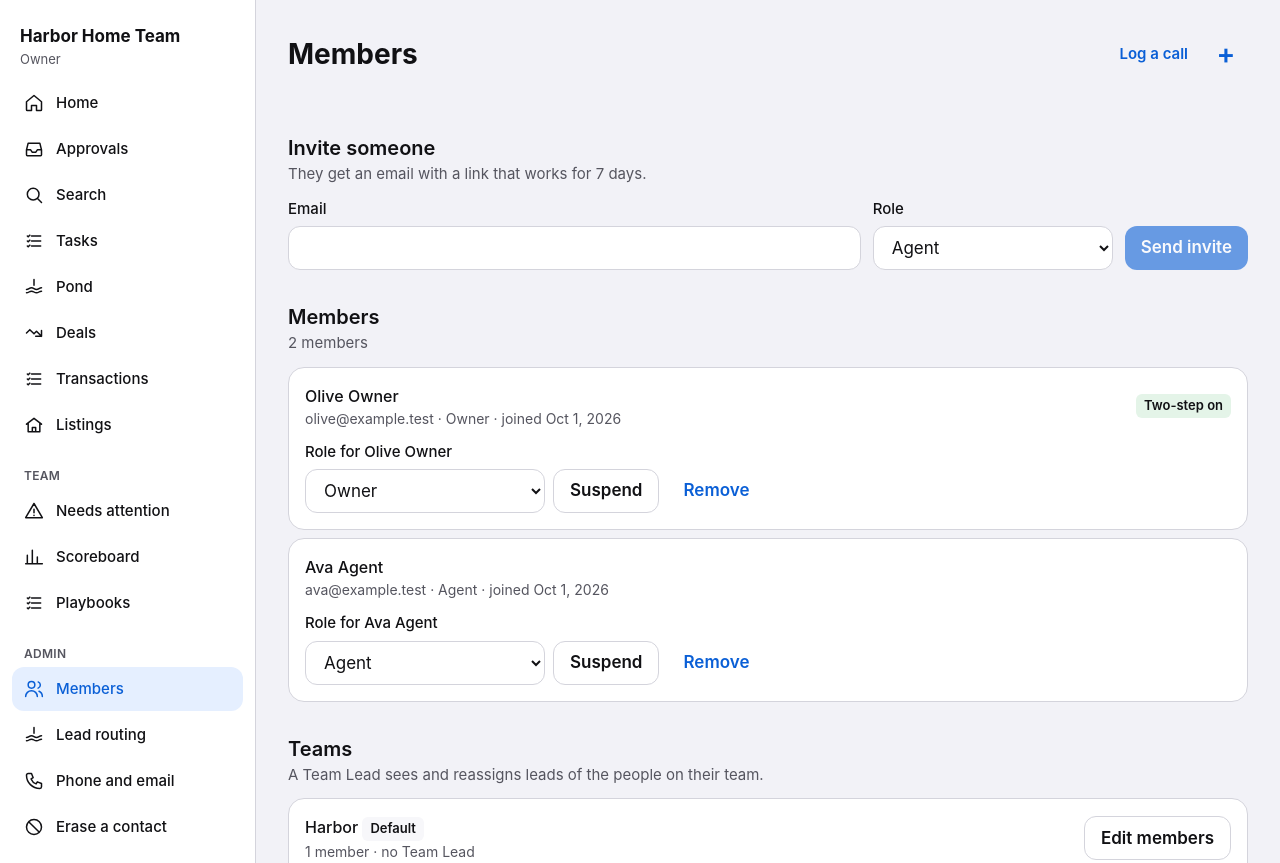
Members › a role change sends the row version; the last-Owner refusal is a sentence, never a code
The width and height of the screenshot is (1280, 863).
Select "Admin" in the dropdown labelled "Role for Olive Owner" at (425, 491), box x1=305 y1=469 x2=545 y2=513
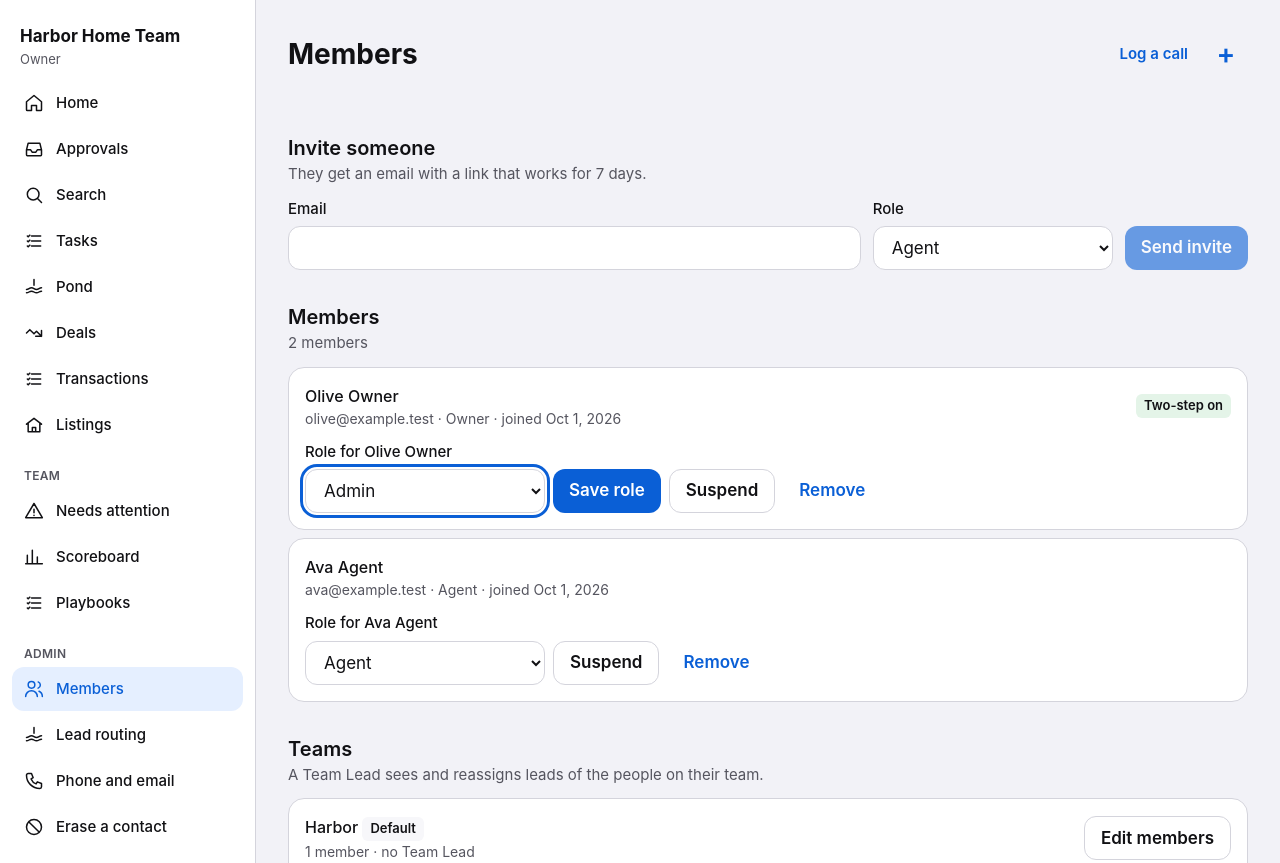
Click the button "Save role".
click(607, 491)  # box x1=553 y1=469 x2=661 y2=513
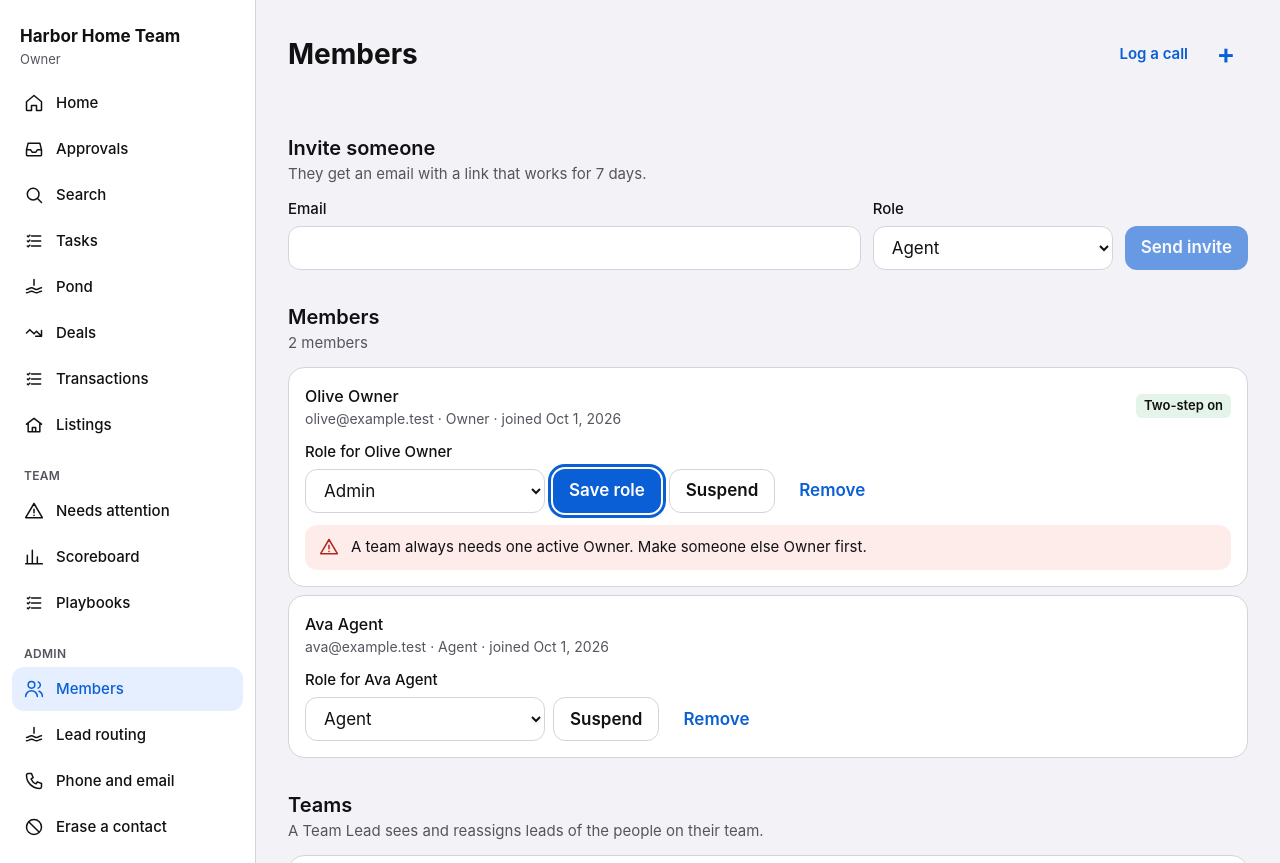
Check: the text "A team always needs one active Owner. Make someone else Owner first." is shown, box x1=351 y1=537 x2=867 y2=556
